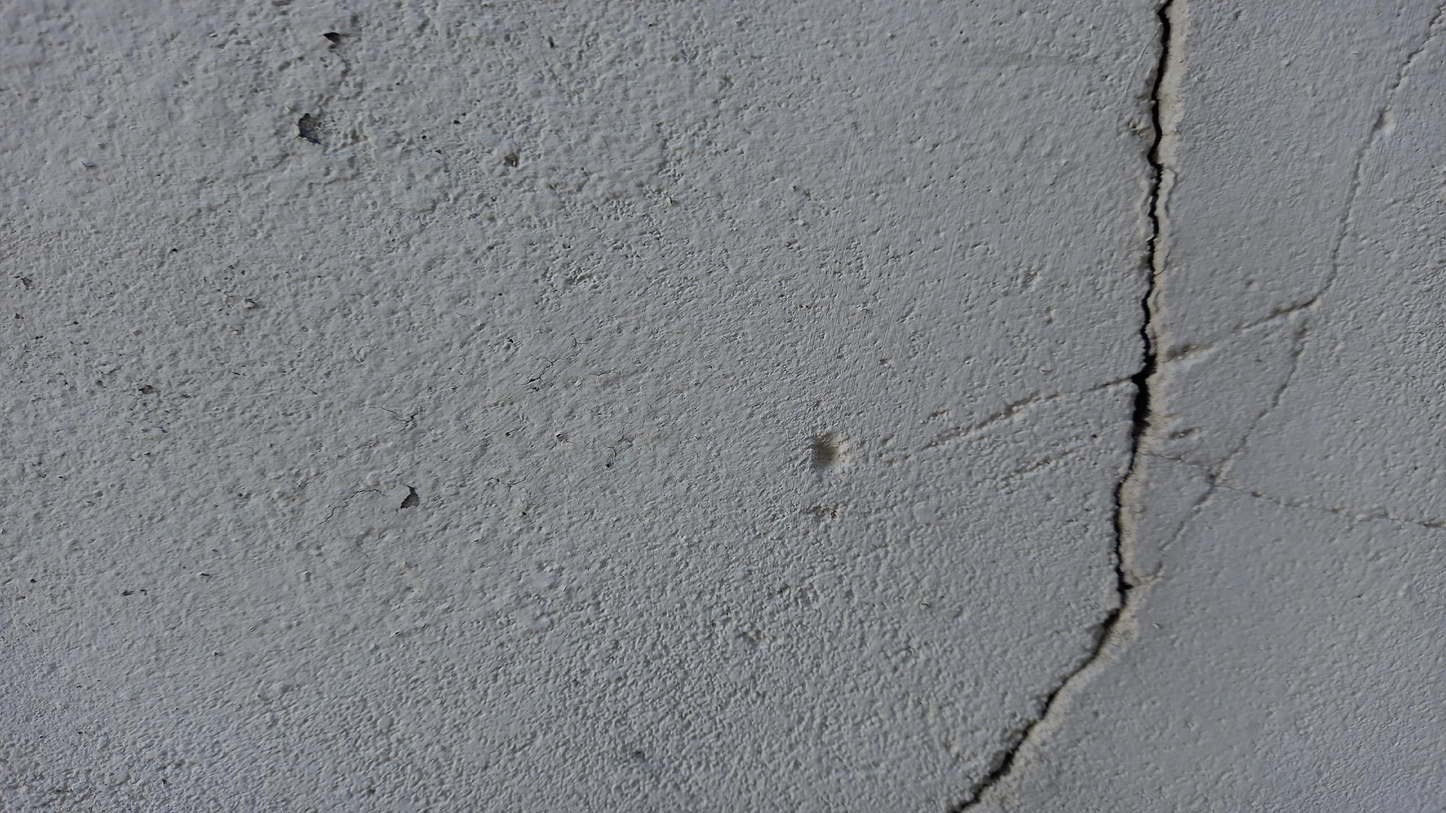crack: (947, 2, 1191, 811)
